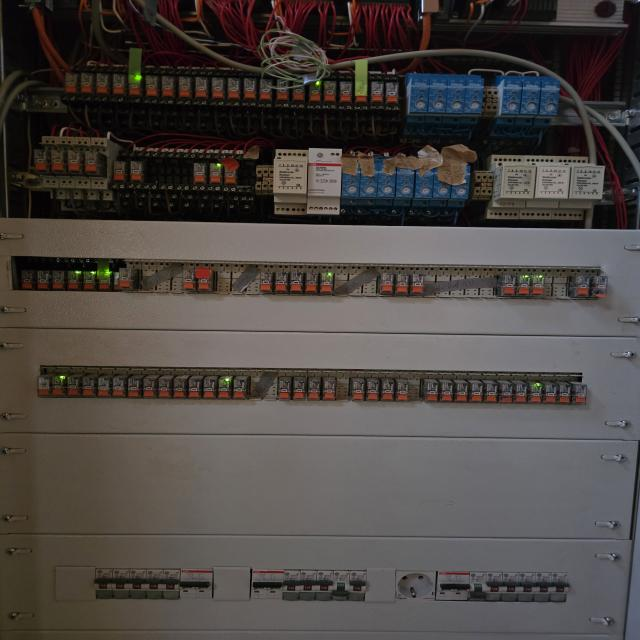Dimmer: (519, 155, 572, 219), (552, 156, 605, 220), (487, 155, 537, 219), (308, 148, 342, 214), (274, 148, 306, 214), (359, 160, 378, 197), (396, 160, 414, 198), (415, 160, 433, 198), (379, 159, 395, 199), (412, 74, 428, 113), (434, 163, 451, 199), (430, 74, 446, 112), (447, 75, 463, 113), (344, 158, 359, 198), (452, 163, 468, 200), (466, 77, 482, 111), (523, 80, 539, 114), (505, 77, 519, 114), (542, 80, 557, 114)
Leitungsschutzschalter: (163, 568, 180, 601), (436, 571, 454, 601), (283, 570, 300, 601), (317, 570, 334, 601), (195, 569, 213, 598), (147, 568, 163, 600), (113, 568, 130, 598), (300, 570, 317, 600), (469, 571, 486, 601), (96, 568, 112, 599), (180, 568, 196, 599), (267, 569, 283, 600), (334, 570, 350, 601), (350, 570, 366, 601), (453, 571, 469, 602), (251, 568, 267, 598), (552, 572, 568, 602), (487, 572, 503, 601), (519, 572, 535, 601), (131, 568, 146, 598), (536, 572, 551, 602), (503, 572, 518, 601)
Relais: (570, 276, 589, 297), (497, 275, 515, 297), (144, 75, 160, 97), (50, 150, 66, 172), (592, 276, 608, 298), (67, 150, 82, 172), (197, 270, 212, 292), (572, 384, 588, 404), (111, 74, 126, 95), (498, 382, 513, 403), (411, 273, 424, 297), (292, 80, 306, 102), (34, 149, 48, 171), (84, 151, 98, 173), (305, 272, 319, 294), (380, 272, 394, 294), (530, 274, 544, 296), (425, 381, 439, 403), (243, 78, 256, 101), (80, 73, 94, 94), (128, 75, 142, 96), (385, 82, 399, 103), (260, 272, 274, 293), (158, 377, 172, 398), (484, 382, 498, 403), (179, 76, 192, 98), (195, 76, 208, 98), (320, 272, 333, 294), (514, 382, 527, 404), (227, 78, 241, 98), (370, 82, 384, 102), (130, 161, 144, 181), (82, 377, 96, 397), (127, 378, 141, 398), (142, 378, 156, 398), (96, 73, 109, 94), (259, 79, 272, 100), (339, 81, 352, 102), (355, 81, 368, 102), (183, 270, 196, 291), (188, 378, 201, 399), (218, 378, 231, 399), (278, 380, 291, 401), (323, 380, 336, 401), (381, 381, 394, 402), (529, 383, 542, 404), (544, 382, 556, 404), (308, 81, 321, 101), (323, 81, 336, 101), (193, 163, 206, 183), (223, 163, 236, 183), (97, 271, 110, 291), (112, 377, 125, 397), (203, 378, 216, 398), (233, 379, 246, 399), (293, 380, 306, 400), (366, 381, 379, 401), (65, 72, 77, 93), (162, 76, 174, 97), (277, 80, 289, 101), (210, 163, 222, 184), (396, 274, 408, 295), (67, 376, 79, 397), (174, 378, 186, 399), (396, 381, 408, 402), (456, 382, 468, 403), (470, 382, 482, 403), (558, 383, 570, 404), (52, 377, 65, 396), (212, 78, 224, 98), (52, 270, 64, 290), (67, 270, 79, 290), (120, 268, 132, 288), (290, 272, 302, 292), (517, 276, 529, 296), (97, 377, 109, 397), (308, 380, 320, 400), (352, 380, 364, 400), (441, 382, 453, 402), (114, 161, 126, 180), (276, 272, 287, 292), (83, 272, 95, 290), (37, 376, 49, 394), (37, 270, 48, 289), (22, 270, 32, 289), (114, 273, 119, 290)
Verbinder: (472, 171, 493, 200), (479, 87, 499, 117), (256, 166, 273, 195)
